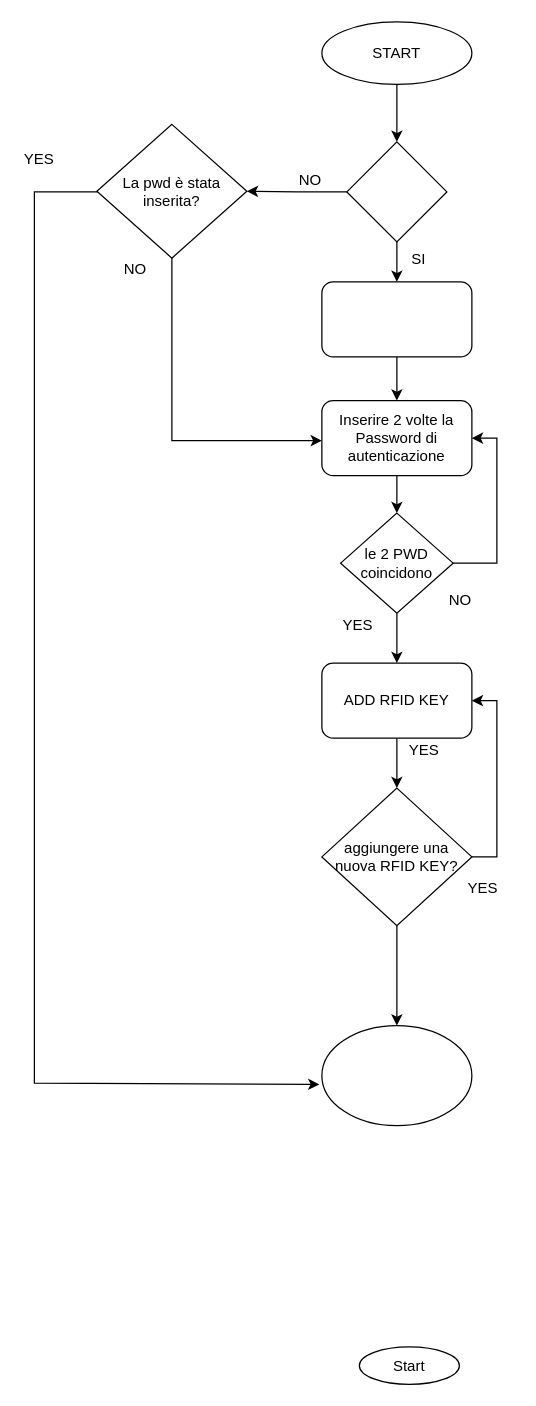
Some shapes in this 536 by 1406 pixel diagram are drawn without their labels. The box of each missing label's shape, as (x1, y1, x2, y2) in pixels:
END: (321, 1024, 472, 1126)
Inizializza la memoria EPROM: (321, 281, 472, 357)
è il primo avvio: (346, 141, 447, 242)
